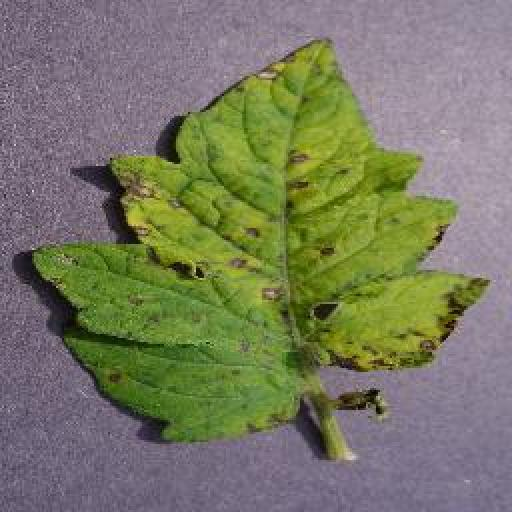disease_tomato: (28, 40, 487, 440)
